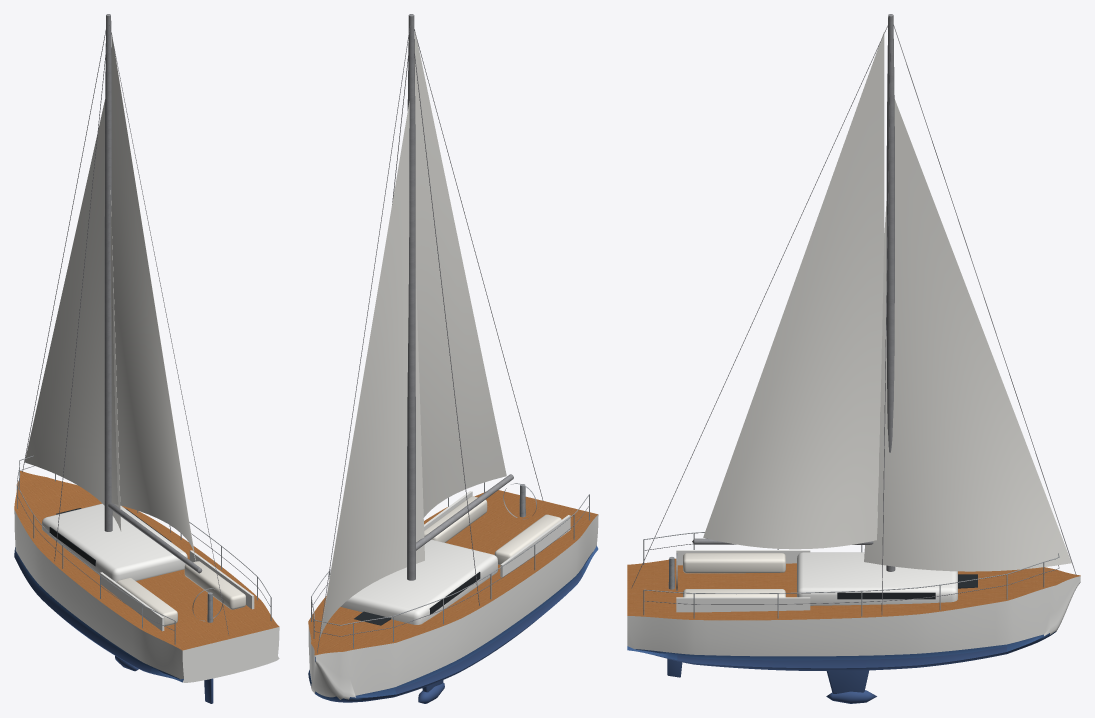
File: boat_yacht.gltf
3 views of the same model, side by side, from view 1: azimuth 30°, elevation 25°; view 2: azimuth 150°, elevation 25°; view 3: azimuth 270°, elevation 25° (orthographic). The views are drawn at different scales.
Visible parts, largest first — view 1: boat_yacht; view 2: boat_yacht; view 3: boat_yacht.
Boxes of the visible parts, x1=… form: boat_yacht: x1=14, y1=14, x2=279, y2=703; boat_yacht: x1=308, y1=14, x2=598, y2=703; boat_yacht: x1=627, y1=14, x2=1080, y2=703.
Bounding box in the file's own units: 3.52 × 17.01 × 10.15.
10 materials, 3 textured.
